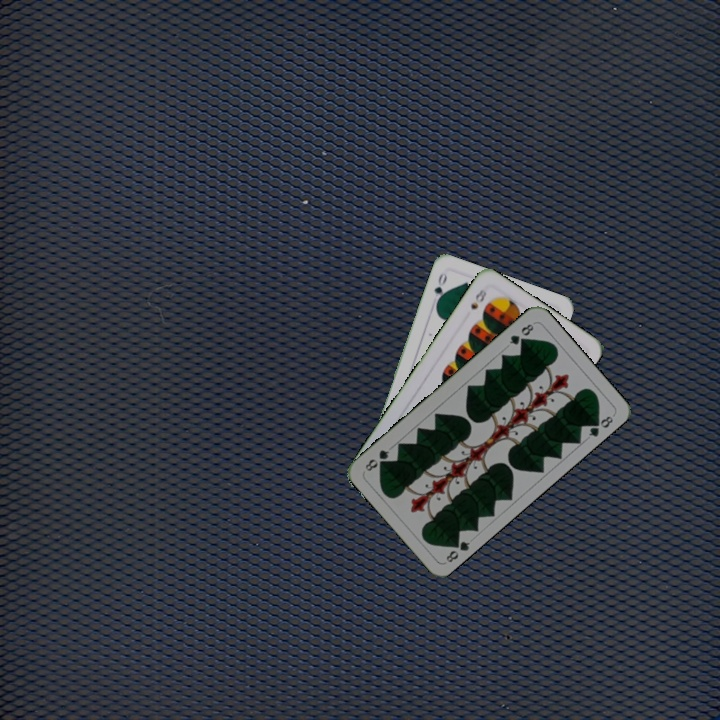G8: (442, 534, 473, 565), (505, 320, 537, 348)
GO: (430, 269, 450, 309)
S8: (466, 284, 489, 312)
